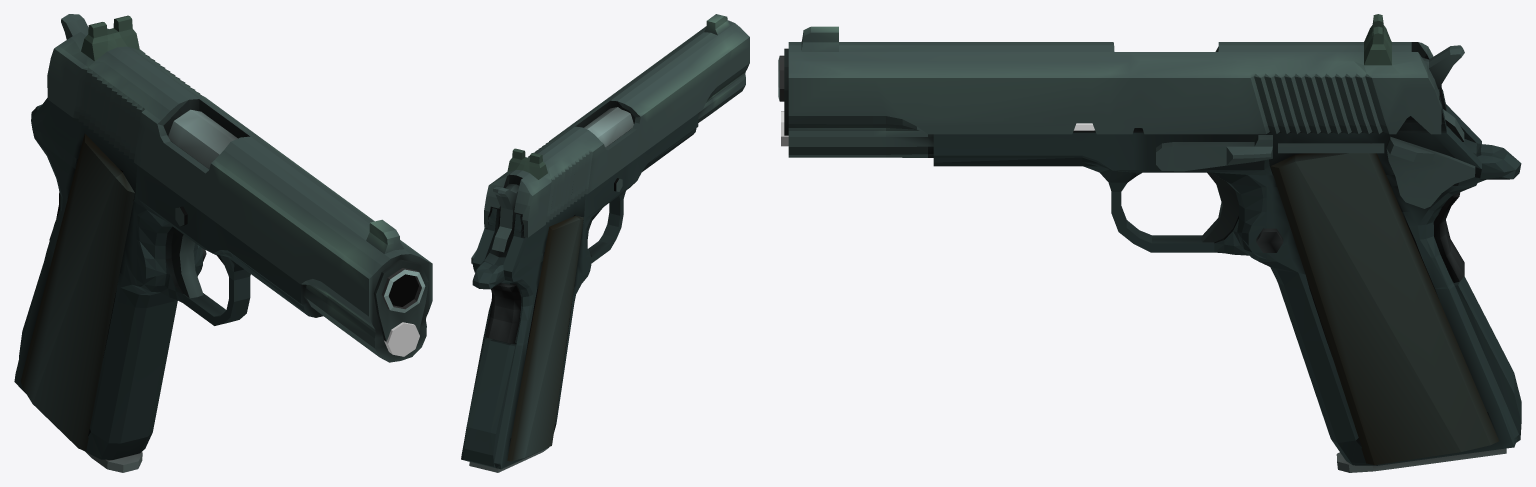
The model's file is colt_1911_a1_fixed.FBX.
3 views of the same model, side by side, from view 1: azimuth 30°, elevation 25°; view 2: azimuth 150°, elevation 25°; view 3: azimuth 270°, elevation 25° (orthographic). The views are drawn at different scales.
Parts seen in each view (by area): view 1: slide, reciever, stock, barrel, barrel bushing, trigger, recoil spring plug, magazine, hammer; view 2: slide, reciever, stock, Object01, hammer, barrel; view 3: slide, stock, reciever, safety, slide stop, trigger, Object01, plunger tube, hammer, magazine.
Part boxes in pixels (bbox=[...]): slide: bbox=[47, 15, 432, 362]; reciever: bbox=[14, 98, 323, 459]; stock: bbox=[20, 133, 134, 450]; barrel: bbox=[168, 109, 425, 312]; barrel bushing: bbox=[374, 259, 428, 341]; trigger: bbox=[171, 229, 203, 298]; recoil spring plug: bbox=[384, 322, 419, 356]; magazine: bbox=[86, 452, 142, 472]; hammer: bbox=[61, 14, 88, 39]; slide: bbox=[484, 14, 749, 237]; reciever: bbox=[461, 113, 698, 469]; stock: bbox=[507, 216, 583, 461]; Object01: bbox=[485, 283, 521, 343]; hammer: bbox=[492, 184, 519, 252]; barrel: bbox=[584, 107, 633, 147]; slide: bbox=[788, 14, 1441, 157]; stock: bbox=[1270, 143, 1498, 464]; reciever: bbox=[933, 85, 1521, 465]; safety: bbox=[1386, 136, 1475, 208]; slide stop: bbox=[1156, 135, 1272, 171]; trigger: bbox=[1201, 172, 1238, 242]; Object01: bbox=[1433, 192, 1464, 282]; plunger tube: bbox=[1278, 143, 1384, 153]; hammer: bbox=[1422, 45, 1464, 141]; magazine: bbox=[1336, 448, 1506, 472].
Size of the model in its own units: 0.0273 by 0.1313 by 0.2.
